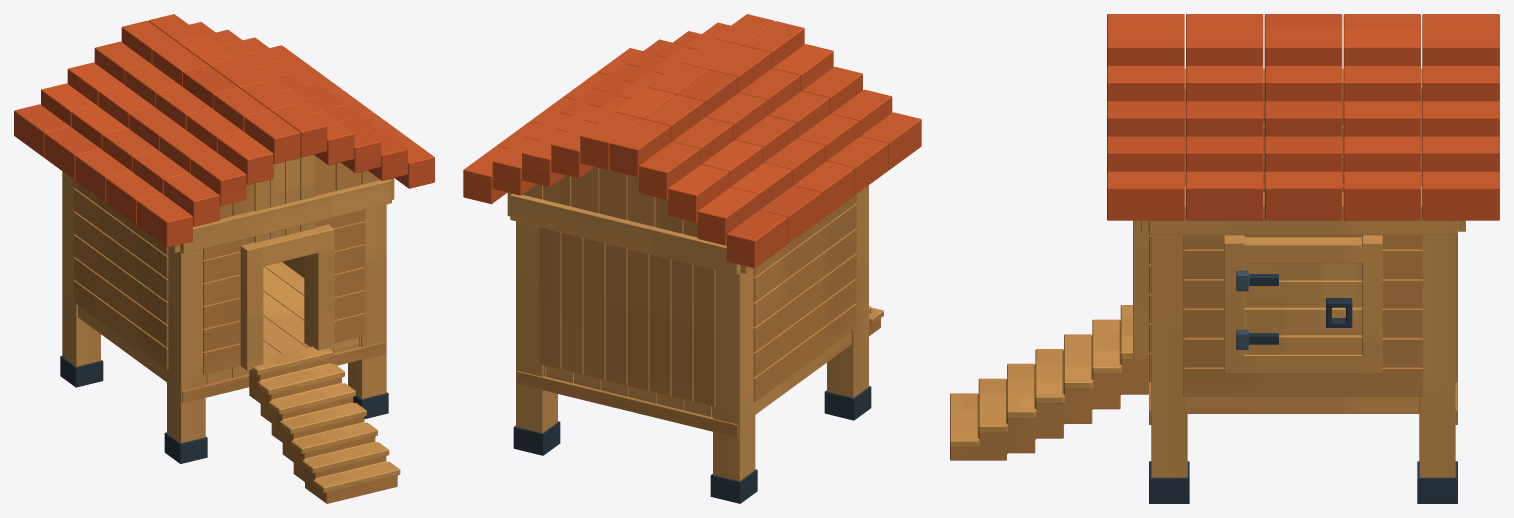
File: SM_VMF_Building_ChickenCoop.fbx
3 renders of one model, left to right at view 1: azimuth 30°, elevation 25°; view 2: azimuth 150°, elevation 25°; view 3: azimuth 270°, elevation 25°, orthographic. The views are drawn at different scales.
Parts seen in each view (by area): view 1: SM_VMF_Building_ChickenCoop_Roof, SM_VMF_Building_ChickenCoop_Siding, SM_VMF_Building_ChickenCoop_CornerPosts, SM_VMF_Building_ChickenCoop_Ramp, SM_VMF_Building_ChickenCoop_EntryHatchTrim, SM_VMF_Building_ChickenCoop_Platform, SM_VMF_Building_ChickenCoop_Pivot_Entrance_EntrancePanel, SM_VMF_Building_ChickenCoop_PostFeet; view 2: SM_VMF_Building_ChickenCoop_Roof, SM_VMF_Building_ChickenCoop_Siding, SM_VMF_Building_ChickenCoop_CornerPosts, SM_VMF_Building_ChickenCoop_EntryHatchTrim, SM_VMF_Building_ChickenCoop_Platform, SM_VMF_Building_ChickenCoop_PostFeet; view 3: SM_VMF_Building_ChickenCoop_Roof, SM_VMF_Building_ChickenCoop_Siding, SM_VMF_Building_ChickenCoop_EntryHatchTrim, SM_VMF_Building_ChickenCoop_CornerPosts, SM_VMF_Building_ChickenCoop_Ramp, SM_VMF_Building_ChickenCoop_Pivot_EggHatch_EggHatch, SM_VMF_Building_ChickenCoop_Platform, SM_VMF_Building_ChickenCoop_PostFeet, SM_VMF_Building_ChickenCoop_Pivot_EggHatch_HatchHardware.
Part boxes in pixels (x1,y1,x2,y2): SM_VMF_Building_ChickenCoop_Roof: (14,14,434,247); SM_VMF_Building_ChickenCoop_Siding: (73,156,380,374); SM_VMF_Building_ChickenCoop_CornerPosts: (62,171,386,443); SM_VMF_Building_ChickenCoop_Ramp: (249,346,400,503); SM_VMF_Building_ChickenCoop_EntryHatchTrim: (168,178,394,370); SM_VMF_Building_ChickenCoop_Platform: (78,262,385,403); SM_VMF_Building_ChickenCoop_Pivot_Entrance_EntrancePanel: (254,154,315,242); SM_VMF_Building_ChickenCoop_PostFeet: (60,356,388,463); SM_VMF_Building_ChickenCoop_Roof: (463,14,921,268); SM_VMF_Building_ChickenCoop_Siding: (522,167,856,406); SM_VMF_Building_ChickenCoop_CornerPosts: (516,185,868,481); SM_VMF_Building_ChickenCoop_EntryHatchTrim: (507,192,753,274); SM_VMF_Building_ChickenCoop_Platform: (516,331,851,437); SM_VMF_Building_ChickenCoop_PostFeet: (513,386,871,503); SM_VMF_Building_ChickenCoop_Roof: (1107,14,1499,220); SM_VMF_Building_ChickenCoop_Siding: (1149,111,1457,396); SM_VMF_Building_ChickenCoop_EntryHatchTrim: (1133,68,1465,373); SM_VMF_Building_ChickenCoop_CornerPosts: (1151,73,1455,477); SM_VMF_Building_ChickenCoop_Ramp: (950,305,1148,460); SM_VMF_Building_ChickenCoop_Pivot_EggHatch_EggHatch: (1244,263,1362,354); SM_VMF_Building_ChickenCoop_Platform: (1149,382,1457,424); SM_VMF_Building_ChickenCoop_PostFeet: (1149,461,1457,503); SM_VMF_Building_ChickenCoop_Pivot_EggHatch_HatchHardware: (1236,270,1352,349).
Size of the model in its own units: 196 by 222 by 271.
Materials: 1 (1 with a texture image).
